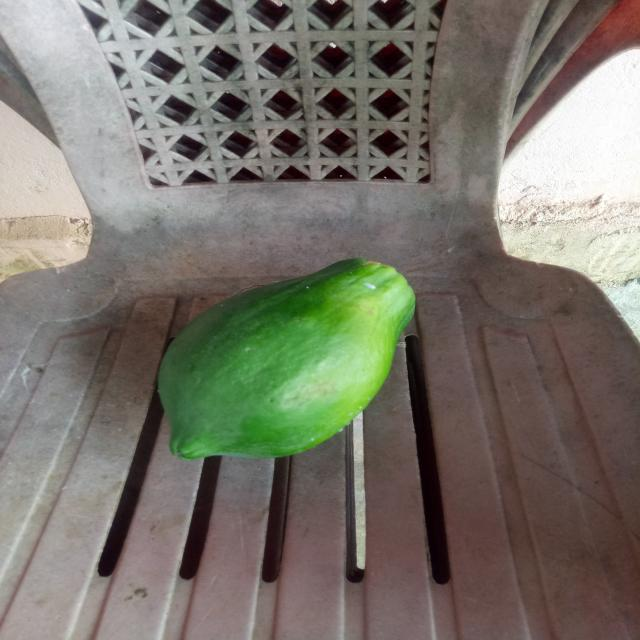Pepaya unrippen: (163, 253, 418, 460)
